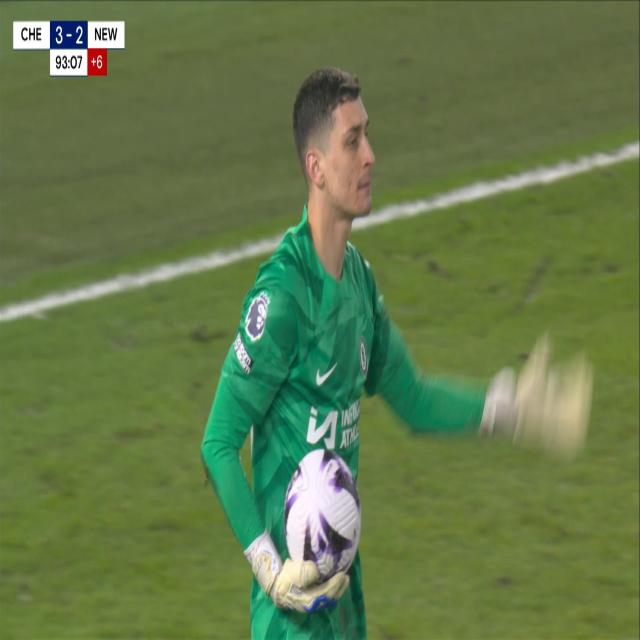Ball: (282, 446, 362, 586)
Chelsea keeper: (198, 65, 595, 638)
